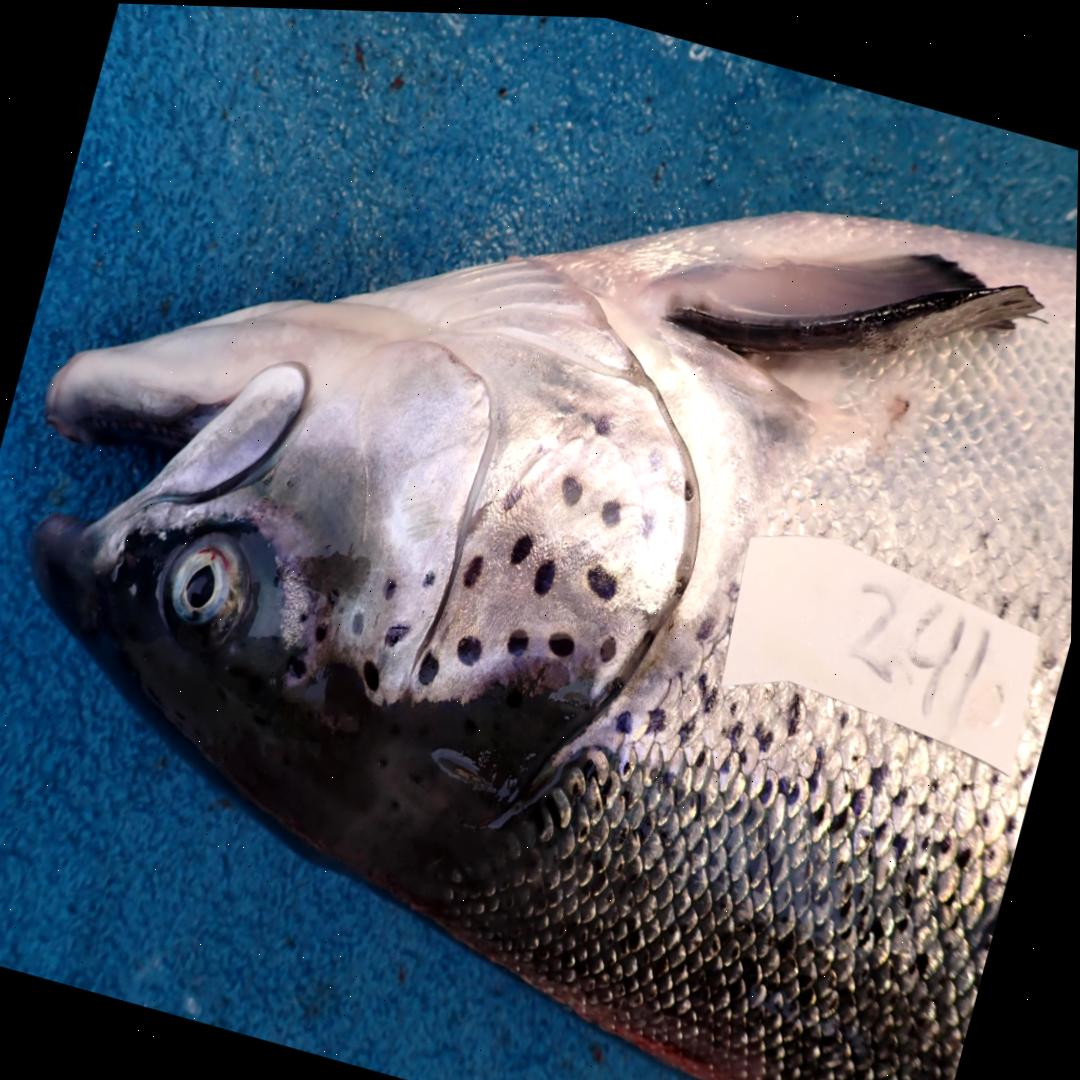spot: (589, 561, 619, 596), (535, 556, 558, 591), (458, 632, 484, 662), (501, 478, 526, 509), (637, 502, 659, 537), (419, 650, 441, 682), (512, 531, 535, 561), (677, 549, 693, 592), (562, 471, 584, 502), (465, 552, 485, 585), (386, 620, 412, 645), (550, 630, 576, 654), (509, 626, 531, 653), (601, 495, 623, 522), (364, 658, 382, 689), (326, 580, 345, 605), (290, 653, 309, 677), (594, 410, 613, 433), (601, 633, 618, 658), (607, 671, 628, 691), (649, 443, 665, 468), (385, 575, 398, 597), (316, 620, 330, 640), (353, 610, 365, 633), (684, 476, 696, 497), (424, 568, 437, 584), (300, 610, 311, 622)
